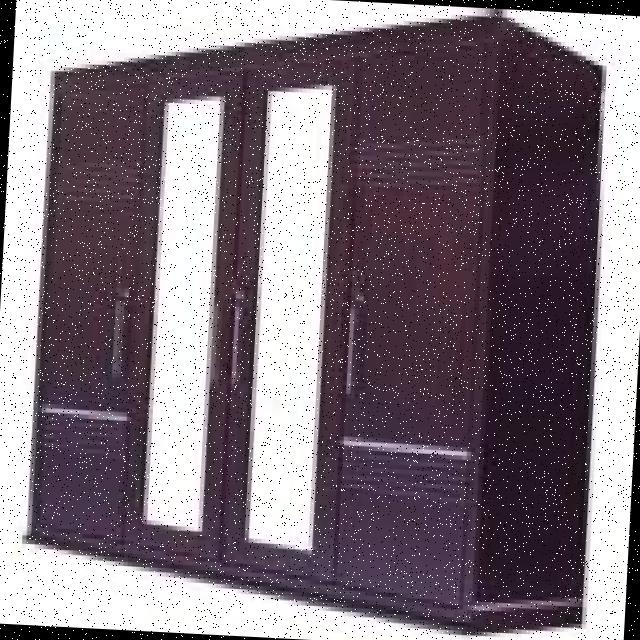Closet: (13, 0, 620, 640)
